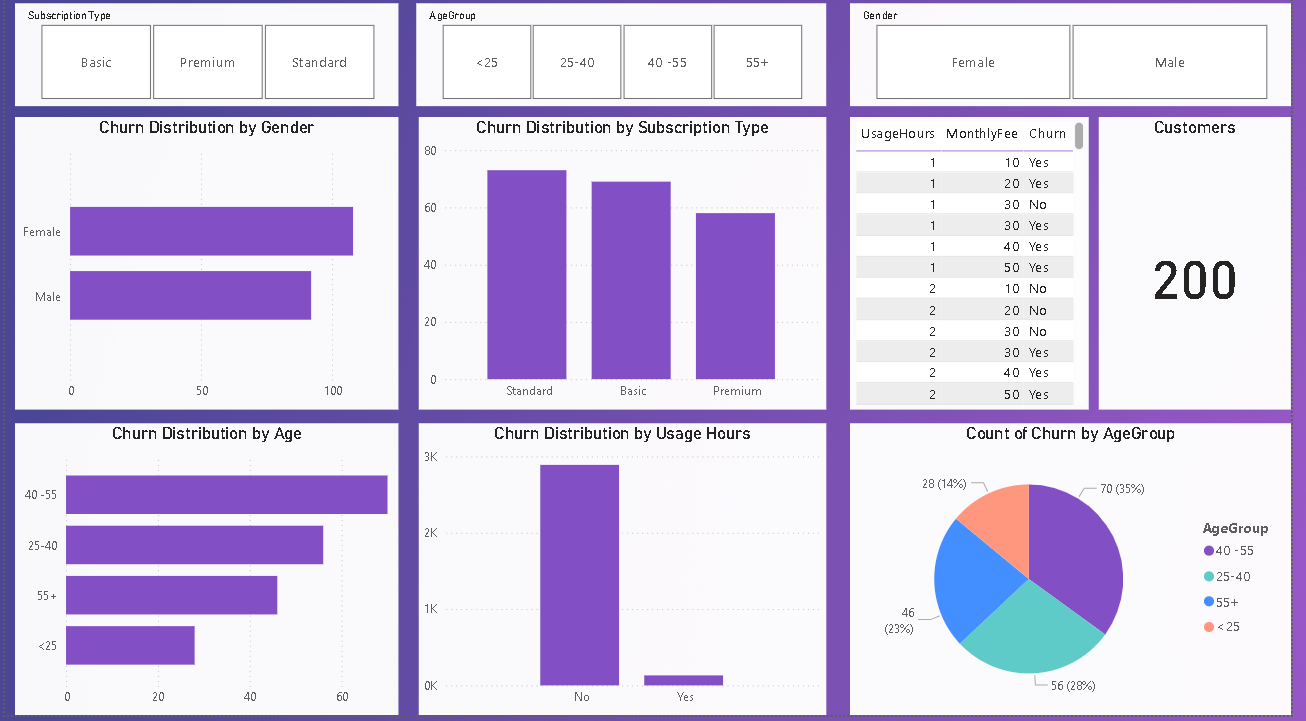

The page's visual inventory and layout, read from the dashboard file:
{"tool":"powerbi","page":{"name":"Page 1","canvas":[1280,720],"ordinal":0},"visuals":[{"type":"clusteredBarChart","title":"Churn Distribution by Gender","fields":{"Category":["Customer_Churn_Data.Gender"],"Y":["CountNonNull(Customer_Churn_Data.Churn)"]},"box":[10,124.4,381.9,291.1],"z":0},{"type":"clusteredColumnChart","title":"Churn Distribution by Subscription Type","fields":{"Category":["Customer_Churn_Data.SubscriptionType"],"Y":["CountNonNull(Customer_Churn_Data.Churn)"]},"box":[411.8,124.4,405.5,291.1],"z":1000},{"type":"clusteredBarChart","title":"Churn Distribution by Age","fields":{"Category":["Customer_Churn_Data.AgeGroup"],"Y":["CountNonNull(Customer_Churn_Data.Churn)"]},"box":[10,429.2,381.9,291.1],"z":2000},{"type":"clusteredColumnChart","title":"Churn Distribution by Usage Hours","fields":{"Category":["Customer_Churn_Data.Churn"],"Y":["Sum(Customer_Churn_Data.UsageHours)"]},"box":[411.8,429.2,405.5,291.1],"z":3000},{"type":"tableEx","title":"Correlation Analysis","fields":{"Values":["Customer_Churn_Data.UsageHours","Customer_Churn_Data.MonthlyFee","Customer_Churn_Data.Churn"]},"box":[840.9,124.4,237.6,291.1],"z":4000},{"type":"pieChart","fields":{"Y":["CountNonNull(Customer_Churn_Data.Churn)"],"Category":["Customer_Churn_Data.AgeGroup"]},"box":[840.9,429.2,439.1,291.1],"z":5000},{"type":"slicer","fields":{"Values":["Customer_Churn_Data.SubscriptionType"]},"box":[10,11.2,381.9,102],"z":5001},{"type":"slicer","fields":{"Values":["Customer_Churn_Data.AgeGroup"]},"box":[409.3,11.2,408,102],"z":5002},{"type":"slicer","fields":{"Values":["Customer_Churn_Data.Gender"]},"box":[840.9,11.2,439.1,102],"z":5003},{"type":"card","title":"Customers","fields":{"Values":["CountNonNull(Customer_Churn_Data.CustomerID)"]},"box":[1088.5,124.4,191.6,291.1],"z":5004}]}

Visuals, with their boxes in screenshot pixels (x1, y1, x2, y2), scaled from the page's 1280x720 canvas onto the 1306x721 screenshot:
"Churn Distribution by Gender" clusteredBarChart: (x1=10, y1=125, x2=400, y2=416)
"Churn Distribution by Subscription Type" clusteredColumnChart: (x1=420, y1=125, x2=834, y2=416)
"Churn Distribution by Age" clusteredBarChart: (x1=10, y1=430, x2=400, y2=720)
"Churn Distribution by Usage Hours" clusteredColumnChart: (x1=420, y1=430, x2=834, y2=720)
"Correlation Analysis" tableEx: (x1=858, y1=125, x2=1100, y2=416)
pieChart - CountNonNull(Customer_Churn_Data.Churn) x Customer_Churn_Data.AgeGroup: (x1=858, y1=430, x2=1305, y2=720)
slicer - Customer_Churn_Data.SubscriptionType: (x1=10, y1=11, x2=400, y2=113)
slicer - Customer_Churn_Data.AgeGroup: (x1=418, y1=11, x2=834, y2=113)
slicer - Customer_Churn_Data.Gender: (x1=858, y1=11, x2=1305, y2=113)
"Customers" card: (x1=1111, y1=125, x2=1305, y2=416)
